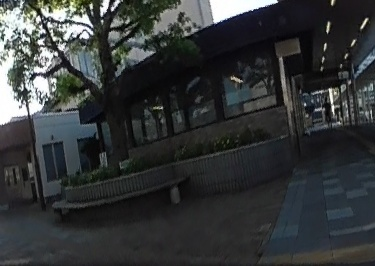person: (321, 95, 333, 127)
